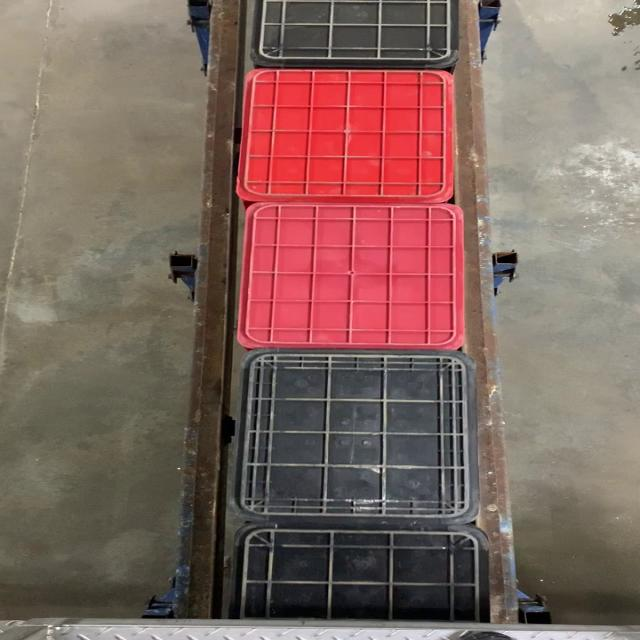Box: (231, 351, 482, 524), (231, 205, 471, 352), (234, 66, 455, 204)
